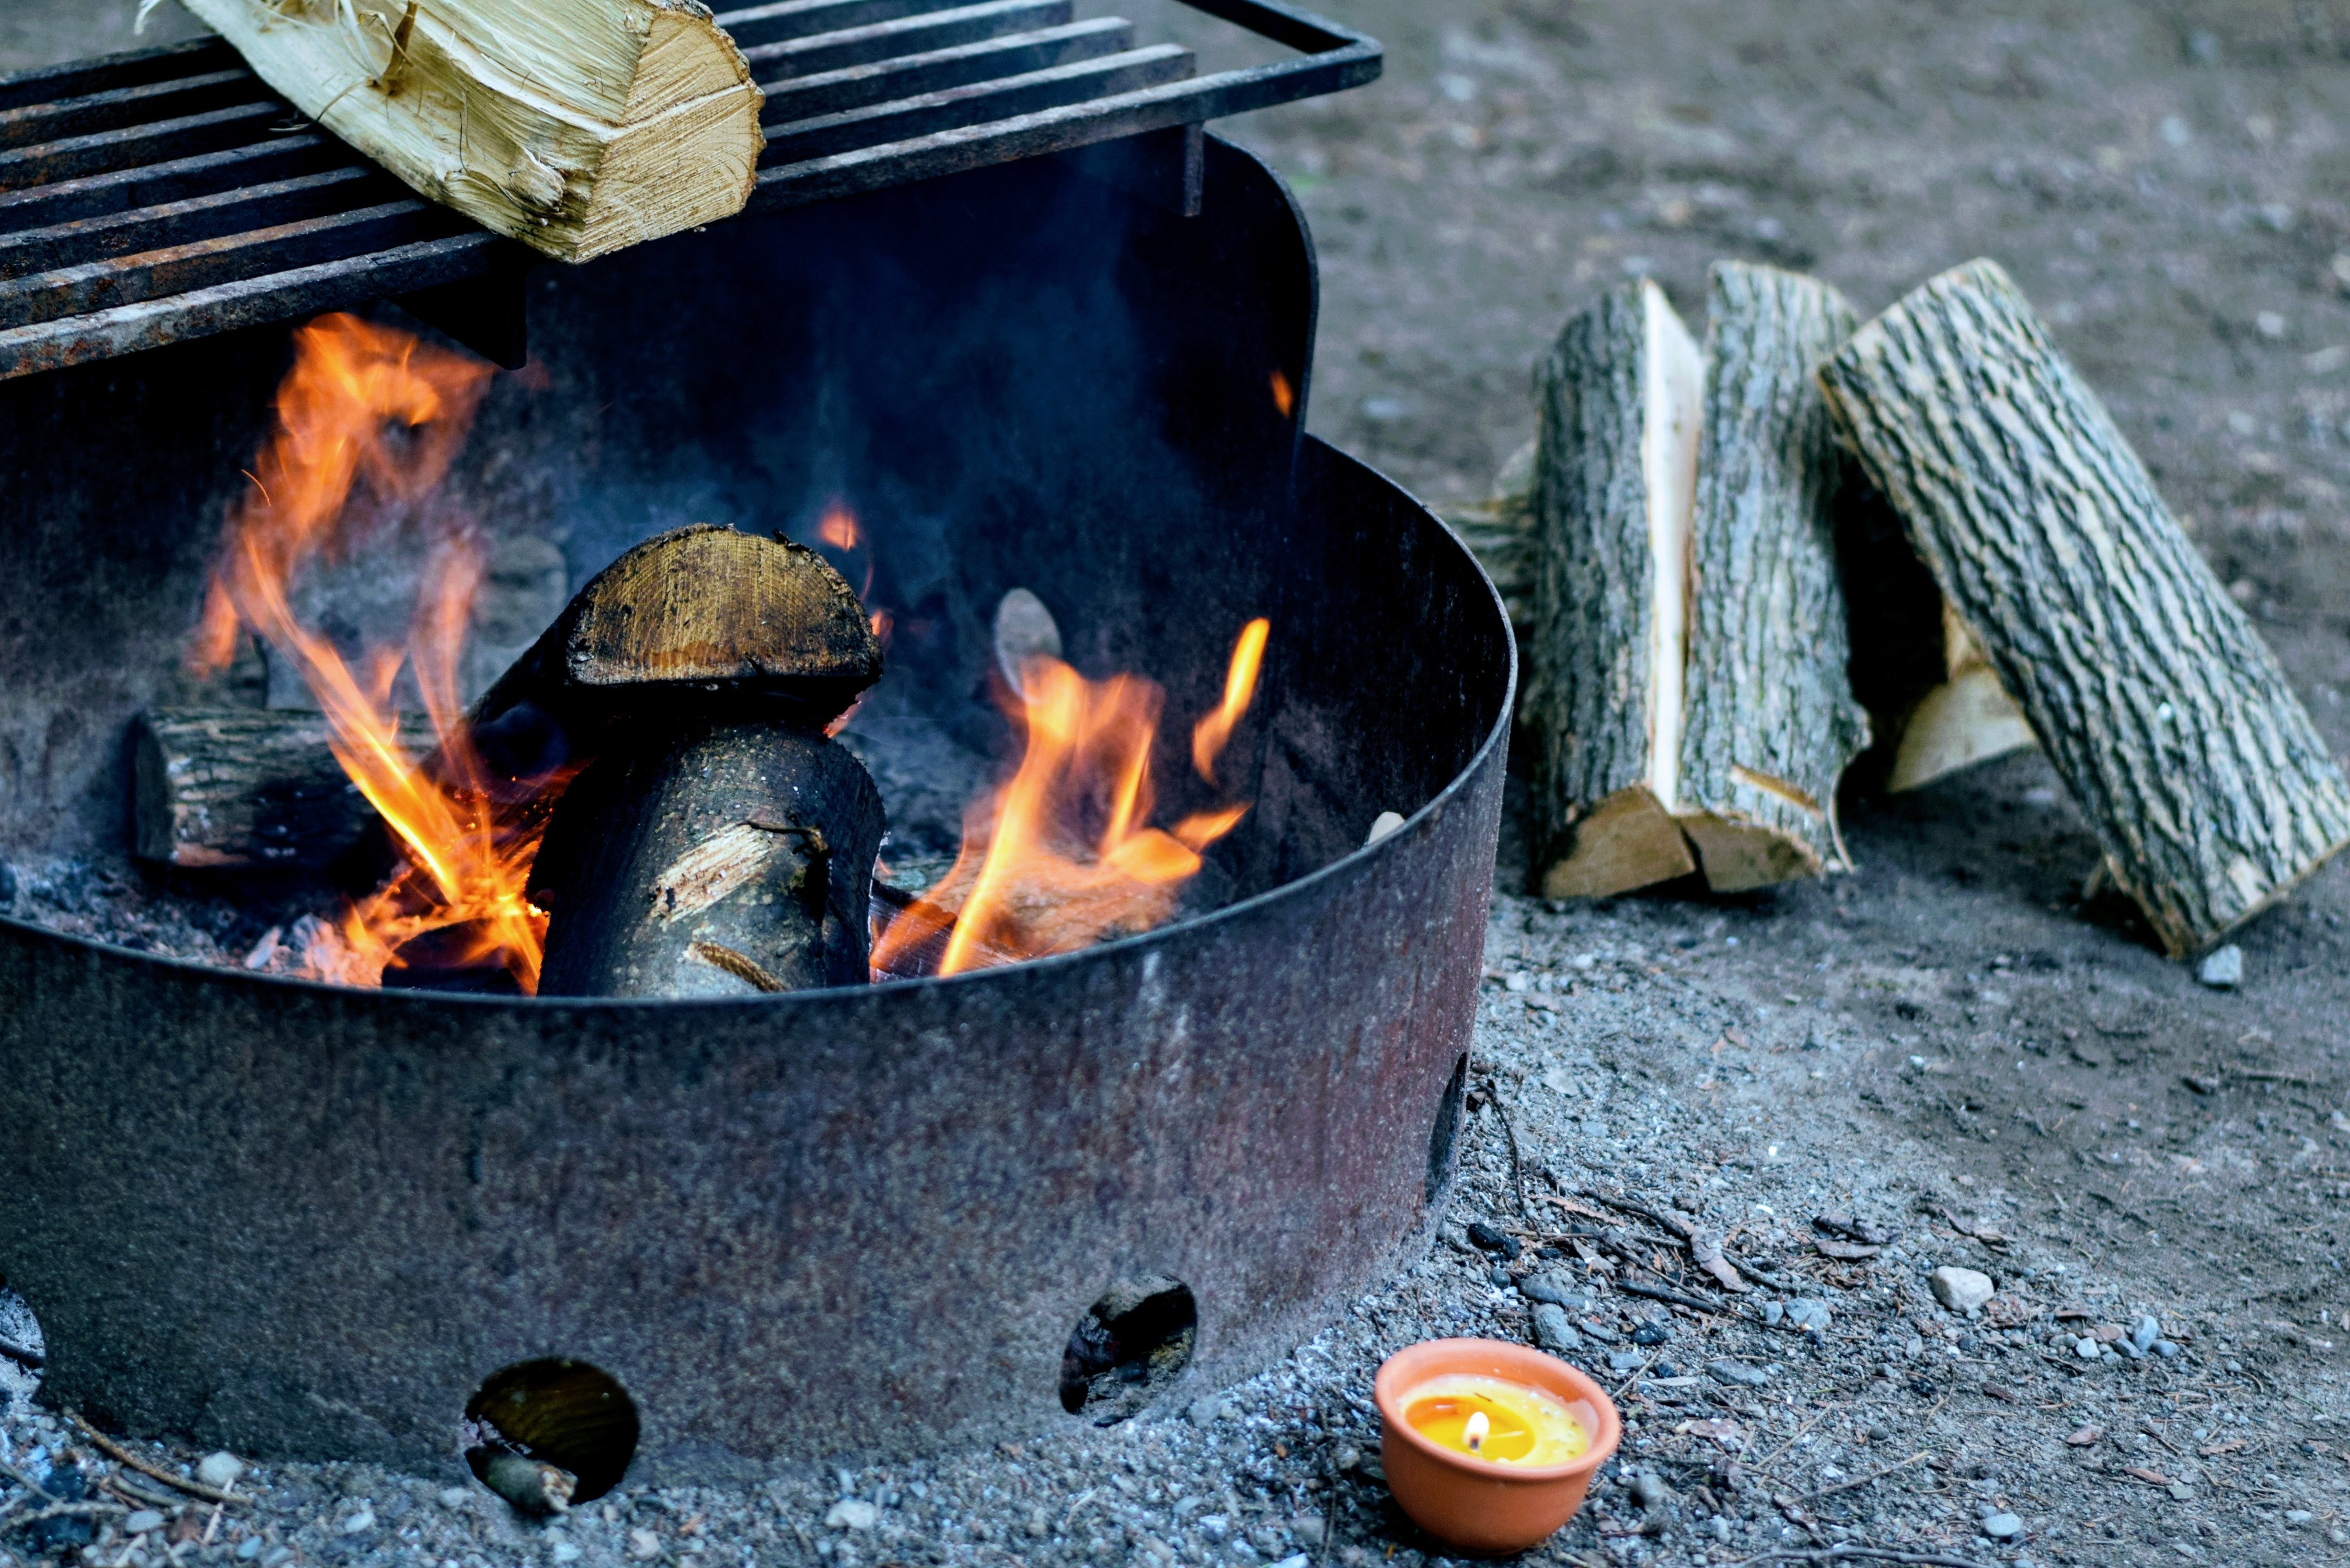fire: (178, 306, 577, 997), (873, 595, 1284, 973)
